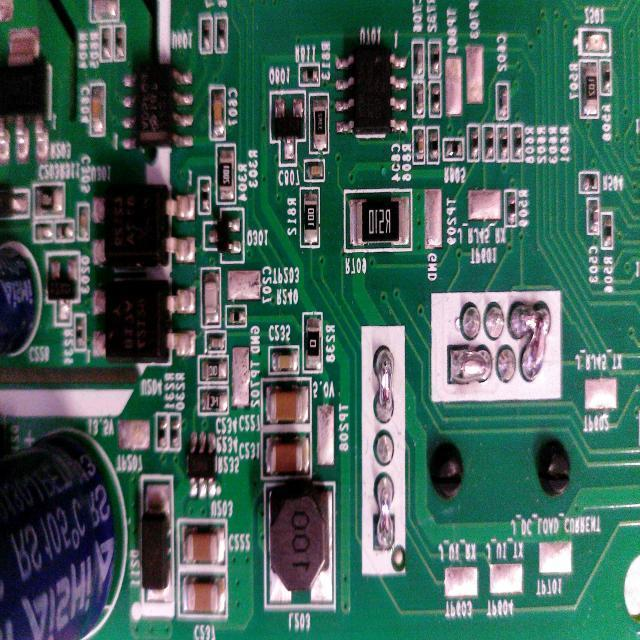Soldering shorted: (512, 294, 552, 392), (372, 340, 398, 426), (447, 342, 494, 388), (374, 472, 396, 550)
